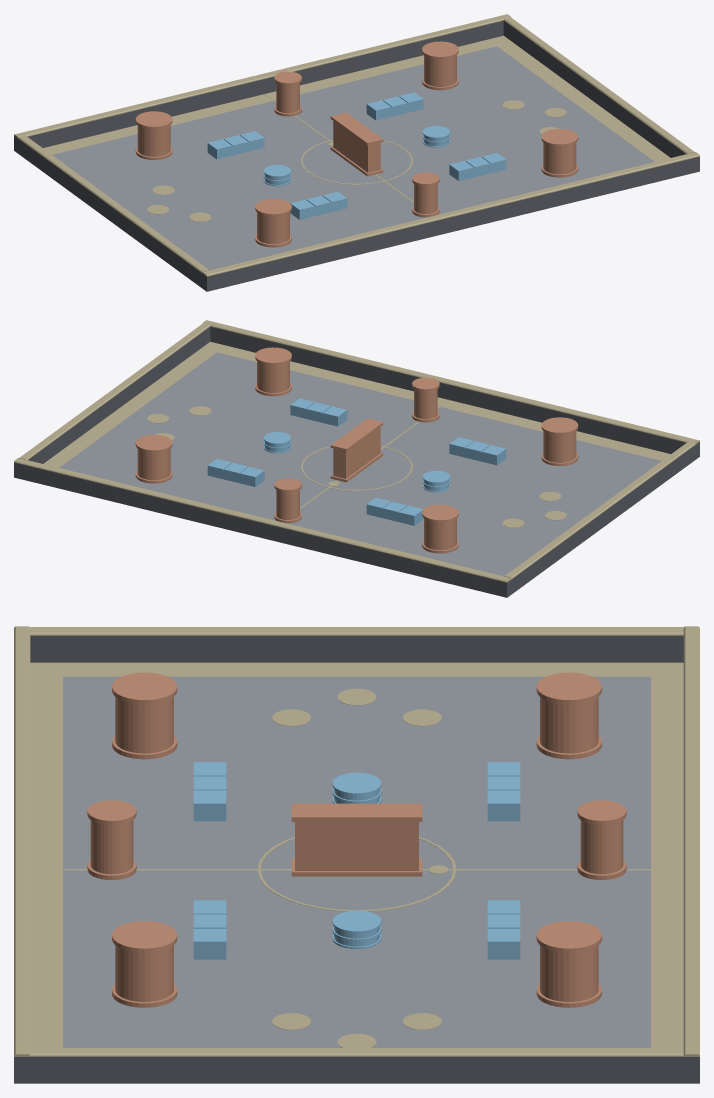
File: arena03.glb
3 renders of one model, top to bottom at view 1: azimuth 30°, elevation 25°; view 2: azimuth 150°, elevation 25°; view 3: azimuth 270°, elevation 25°, orthographic. The views are drawn at different scales.
Visible parts, largest first — view 1: Floor, Wall_S, Wall_N, Wall_W, Wall_E, Obstacle_0, Obstacle_5, Obstacle_4, Obstacle_3, Obstacle_6, Obstacle_1, Obstacle_2 (+6 smaller); view 2: Floor, Wall_N, Wall_S, Wall_W, Wall_E, Obstacle_0, Obstacle_3, Obstacle_6, Obstacle_4, Obstacle_5, Obstacle_2, Obstacle_1 (+6 smaller); view 3: Floor, Wall_E, Wall_W, Obstacle_0, Wall_N, Wall_S, Obstacle_4, Obstacle_6, Obstacle_3, Obstacle_5, Obstacle_1, Obstacle_2 (+6 smaller).
Part boxes in pixels (x1,y1,x2,y2): Floor: (43, 35, 670, 270); Wall_S: (202, 152, 699, 291); Wall_N: (14, 14, 511, 153); Wall_W: (18, 135, 209, 287); Wall_E: (503, 17, 694, 157); Obstacle_0: (330, 112, 383, 176); Obstacle_5: (541, 129, 578, 177); Obstacle_4: (135, 111, 172, 159); Obstacle_3: (422, 41, 458, 90); Obstacle_6: (255, 198, 291, 247); Obstacle_1: (274, 71, 301, 116); Obstacle_2: (412, 172, 439, 217); Floor: (43, 341, 670, 576); Wall_N: (14, 458, 511, 597); Wall_S: (202, 320, 699, 459); Wall_W: (504, 441, 695, 593); Wall_E: (19, 323, 210, 463); Obstacle_0: (330, 418, 383, 482); Obstacle_3: (135, 435, 172, 483); Obstacle_6: (541, 417, 578, 465); Obstacle_4: (422, 504, 458, 553); Obstacle_5: (255, 347, 291, 396); Obstacle_2: (412, 377, 439, 422); Obstacle_1: (274, 478, 301, 523); Floor: (30, 662, 683, 1047); Wall_E: (30, 1048, 683, 1083); Wall_W: (30, 627, 683, 662); Obstacle_0: (291, 803, 422, 876); Wall_N: (683, 626, 699, 1083); Wall_S: (14, 626, 30, 1083); Obstacle_4: (536, 672, 601, 759); Obstacle_6: (112, 672, 177, 759); Obstacle_3: (536, 921, 601, 1007); Obstacle_5: (112, 921, 177, 1007); Obstacle_1: (577, 800, 626, 879); Obstacle_2: (87, 800, 136, 879).
Bounding box in the file's own units: 31 × 2.2 × 21.
